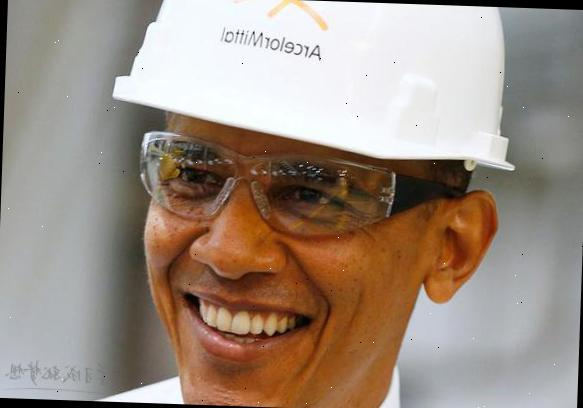helmet: (97, 0, 520, 190)
